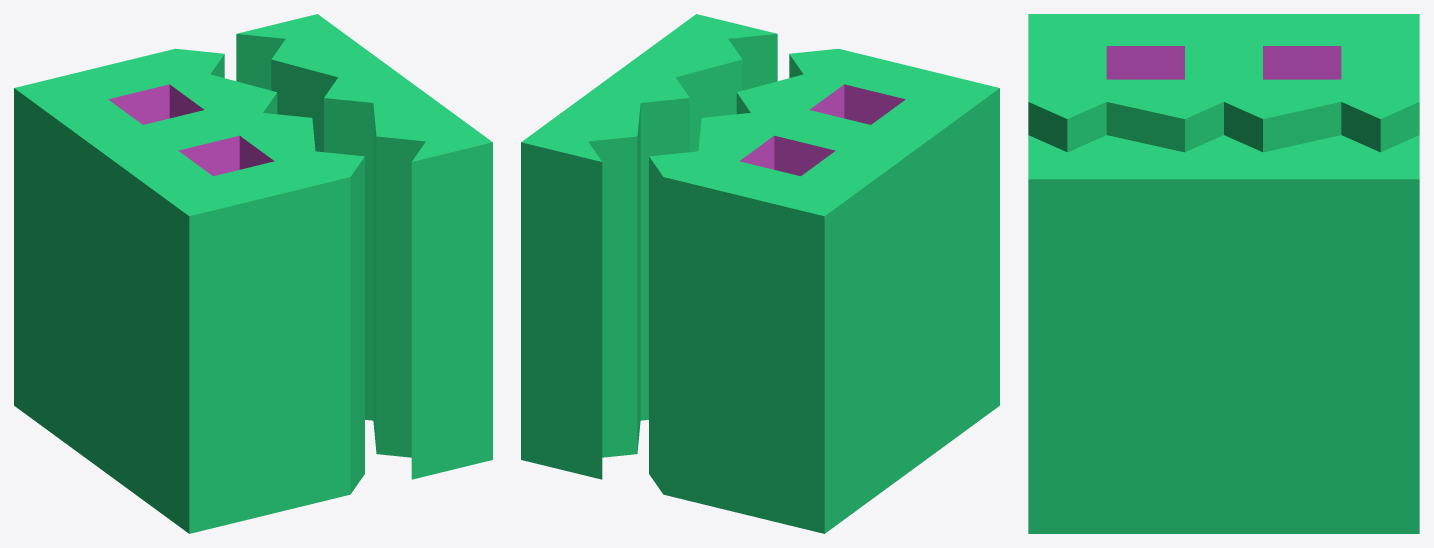
3 views of the same model, side by side, from view 1: azimuth 30°, elevation 25°; view 2: azimuth 150°, elevation 25°; view 3: azimuth 270°, elevation 25° (orthographic). The views are drawn at different scales.
Parts seen in each view (by area): view 1: Cube; view 2: Cube; view 3: Cube.
Boxes of the visible parts, bbox=[...] form: Cube: bbox=[14, 14, 492, 533]; Cube: bbox=[521, 14, 999, 533]; Cube: bbox=[1028, 14, 1419, 533].
Size of the model in its own units: 200 by 200 by 200.
